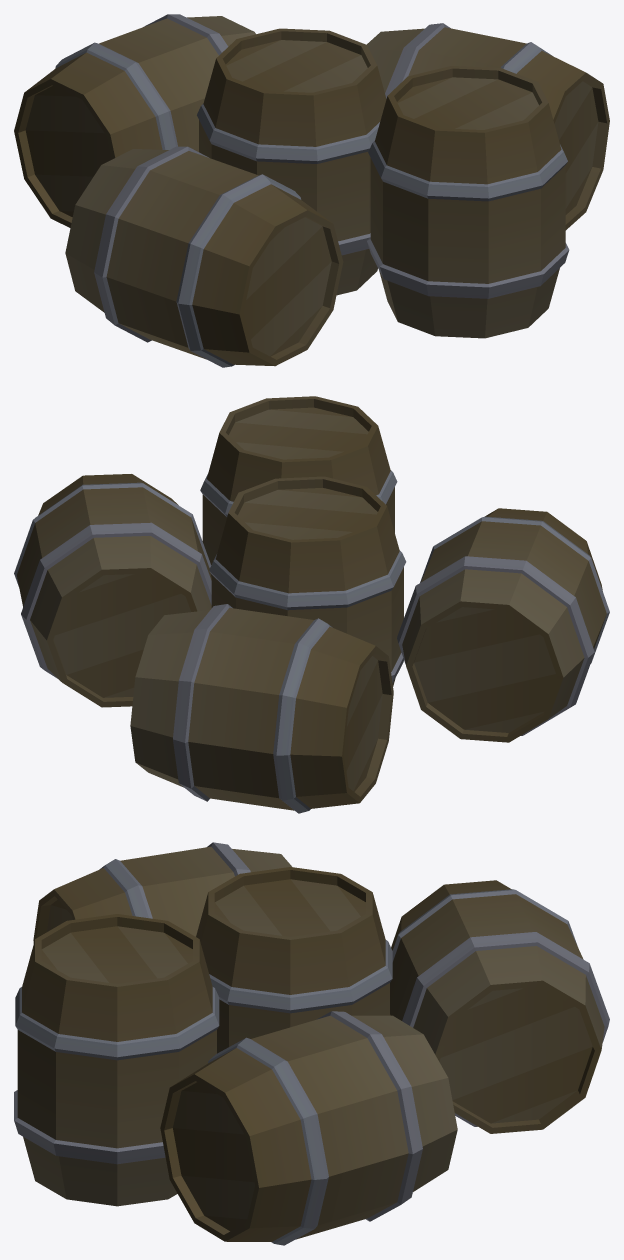
The model's file is Barrel_1E.fbx.
3 views of the same model, one above another, from view 1: azimuth 30°, elevation 25°; view 2: azimuth 150°, elevation 25°; view 3: azimuth 270°, elevation 25° (orthographic). The views are drawn at different scales.
Visible parts, largest first — view 1: polySurface9638; view 2: polySurface9638; view 3: polySurface9638.
Boxes of the visible parts, x1,y1,x2,y2 form: polySurface9638: (14, 14, 609, 367); polySurface9638: (14, 396, 609, 813); polySurface9638: (14, 842, 609, 1245).
Size of the model in its own units: 465 by 171 by 414.
